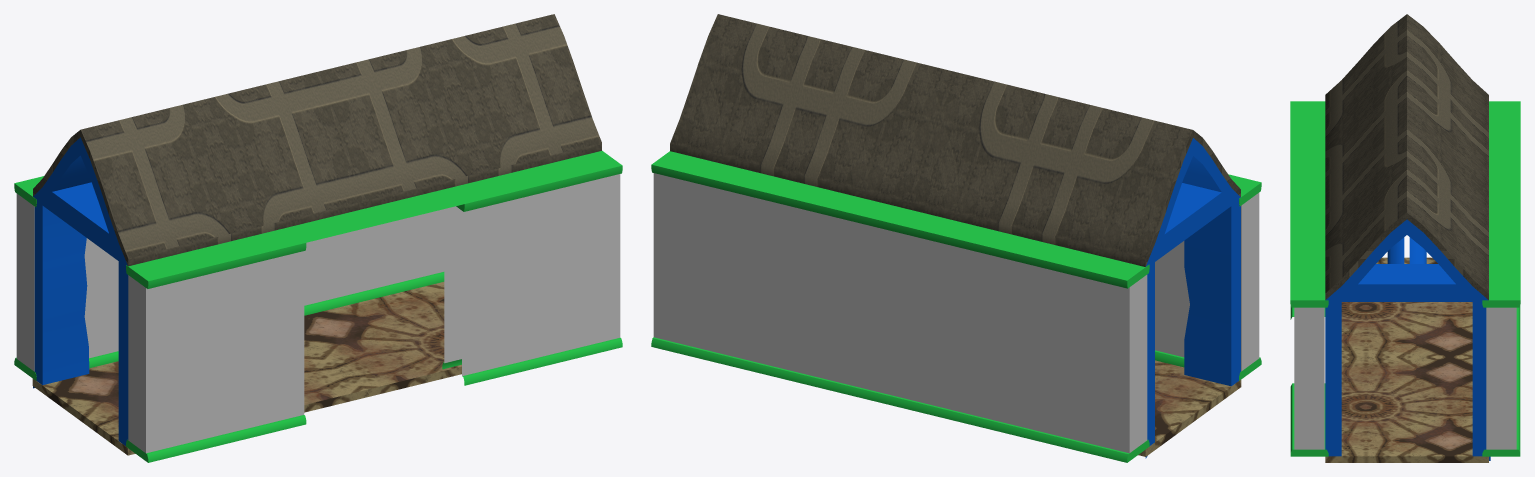
Rendered from Basic Hallway 02B.fbx.
3 renders of one model, left to right at view 1: azimuth 30°, elevation 25°; view 2: azimuth 150°, elevation 25°; view 3: azimuth 270°, elevation 25°, orthographic. The views are drawn at different scales.
Parts seen in each view (by area): view 1: Plane_001; view 2: Plane_001; view 3: Plane_001.
Part boxes in pixels (<box>): Plane_001: <box>14,14,622,462</box>; Plane_001: <box>651,14,1261,462</box>; Plane_001: <box>1290,14,1520,462</box>.
Bounding box in the file's own units: 1258 × 744 × 615.
